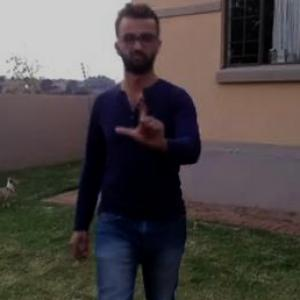land_hand: (115, 89, 169, 156)
